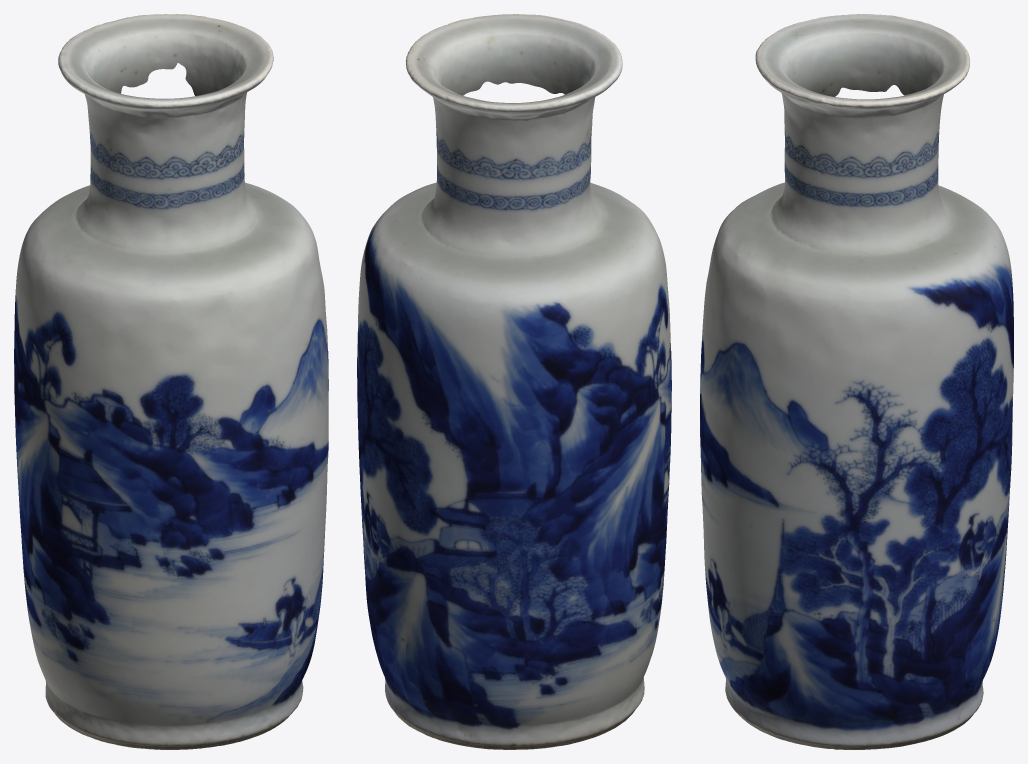
File: vase-f1991-150k-2048-medium-100k-2048_std_draco.glb
3 renders of one model, left to right at view 1: azimuth 30°, elevation 25°; view 2: azimuth 150°, elevation 25°; view 3: azimuth 270°, elevation 25°, orthographic.
Bounding box in the file's own units: 0.1163 × 0.2633 × 0.1166.
Materials: 1 (1 with a texture image).
